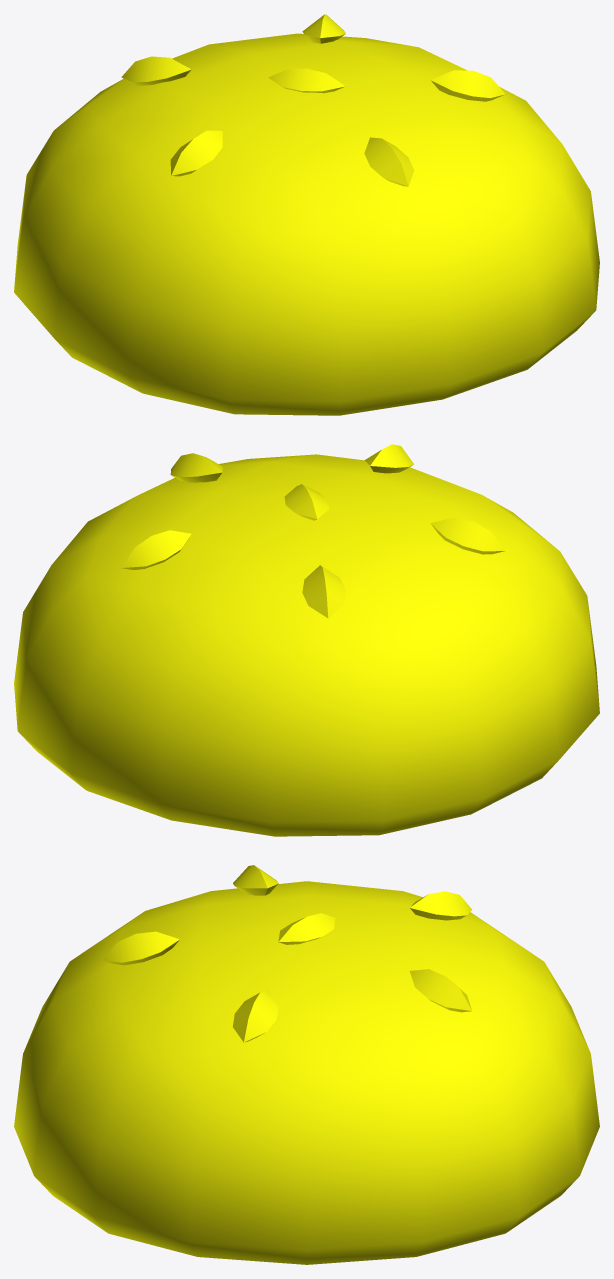
File: food_ingredient_bun_top.gltf
3 views of the same model, one above another, from view 1: azimuth 30°, elevation 25°; view 2: azimuth 150°, elevation 25°; view 3: azimuth 270°, elevation 25° (orthographic).
Visible parts, largest first — view 1: food_ingredient_bun_top; view 2: food_ingredient_bun_top; view 3: food_ingredient_bun_top.
Boxes of the visible parts, box(x1,y1,x2,y2) form: food_ingredient_bun_top: box(14, 14, 599, 415); food_ingredient_bun_top: box(14, 444, 599, 836); food_ingredient_bun_top: box(14, 865, 599, 1264).
Bounding box in the file's own units: 0.7 × 0.3072 × 0.7.
1 material, 1 textured.
